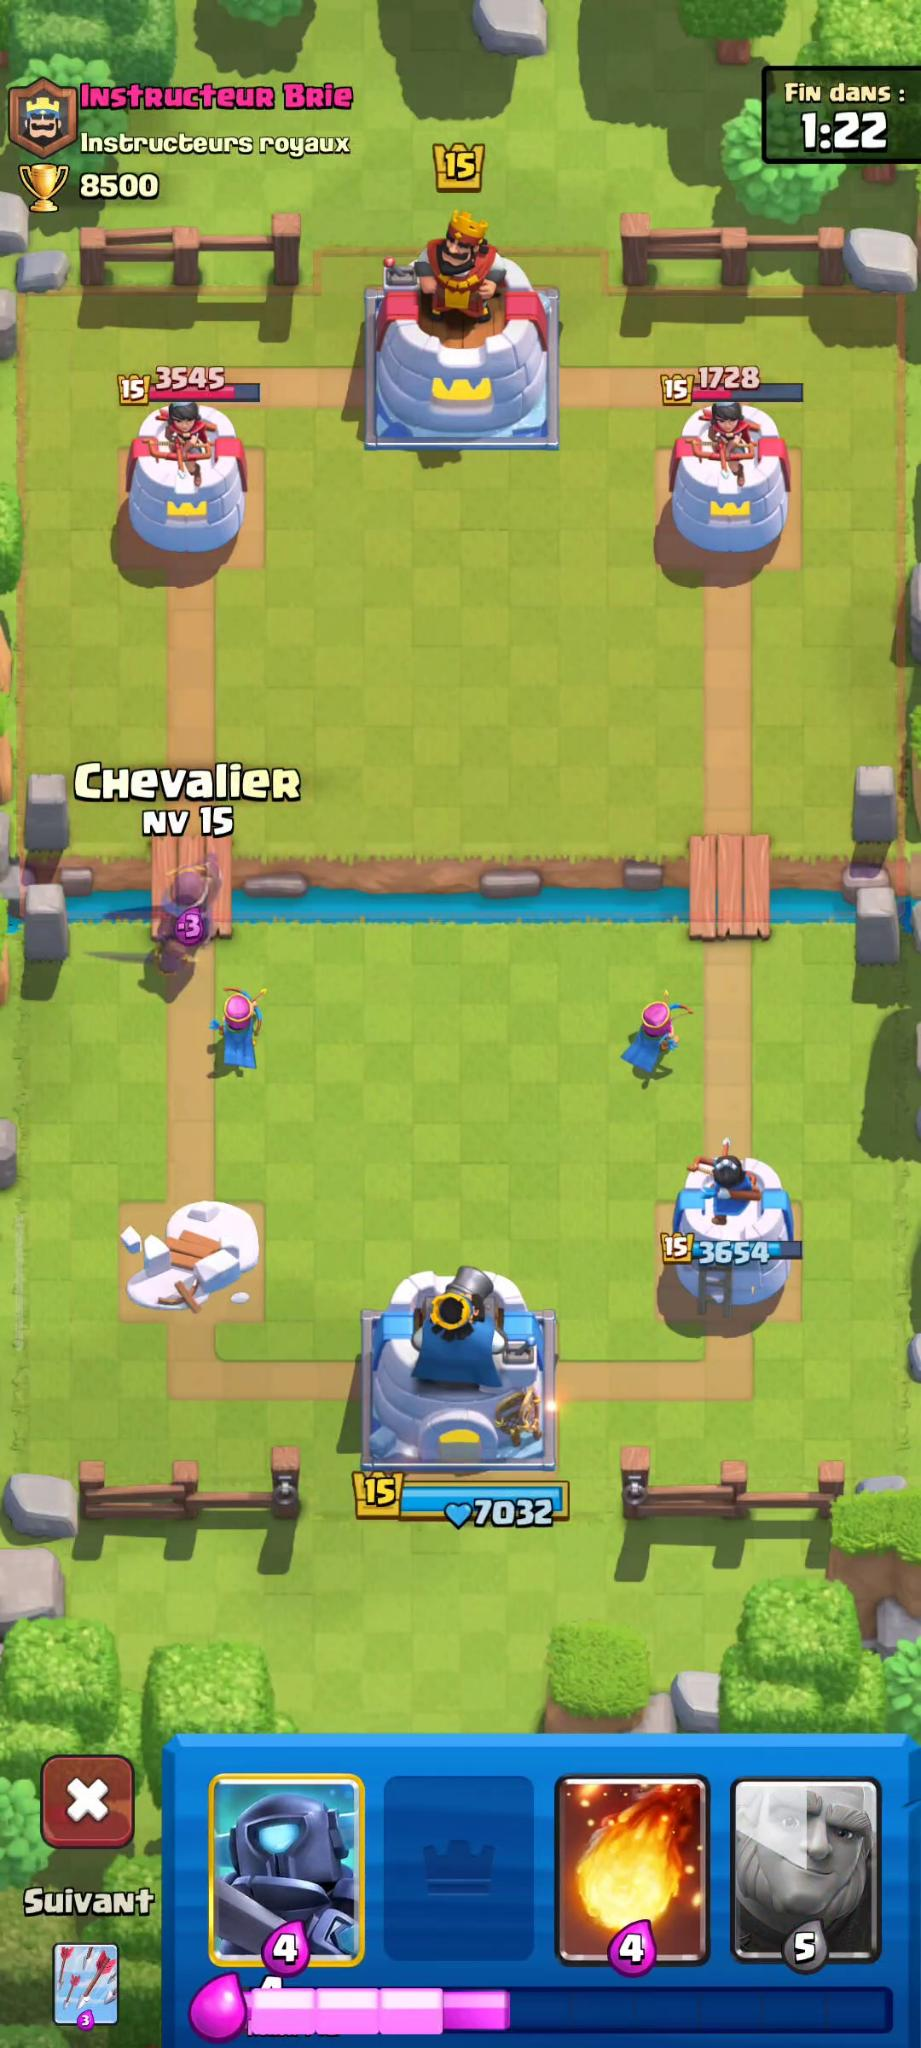archere: (196, 985, 290, 1084), (611, 985, 703, 1087)
chevalier: (97, 848, 251, 987)
